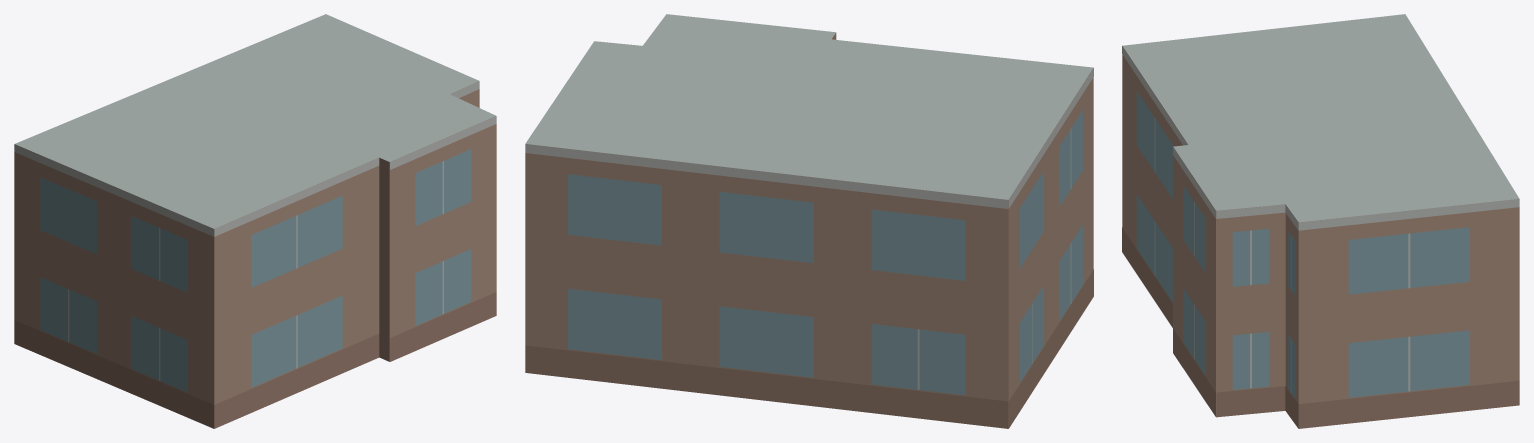
The model's file is survey-upis-32688996.glb.
3 views of the same model, side by side, from view 1: azimuth 30°, elevation 25°; view 2: azimuth 150°, elevation 25°; view 3: azimuth 270°, elevation 25° (orthographic). The views are drawn at different scales.
Parts seen in each view (by area): view 1: survey-upis-32688996.tmp; view 2: survey-upis-32688996.tmp; view 3: survey-upis-32688996.tmp.
Boxes of the visible parts, bbox=[...] form: survey-upis-32688996.tmp: bbox=[14, 14, 496, 428]; survey-upis-32688996.tmp: bbox=[525, 14, 1093, 428]; survey-upis-32688996.tmp: bbox=[1122, 14, 1519, 428].
Bounding box in the file's own units: 13.22 × 6.1 × 10.65.
